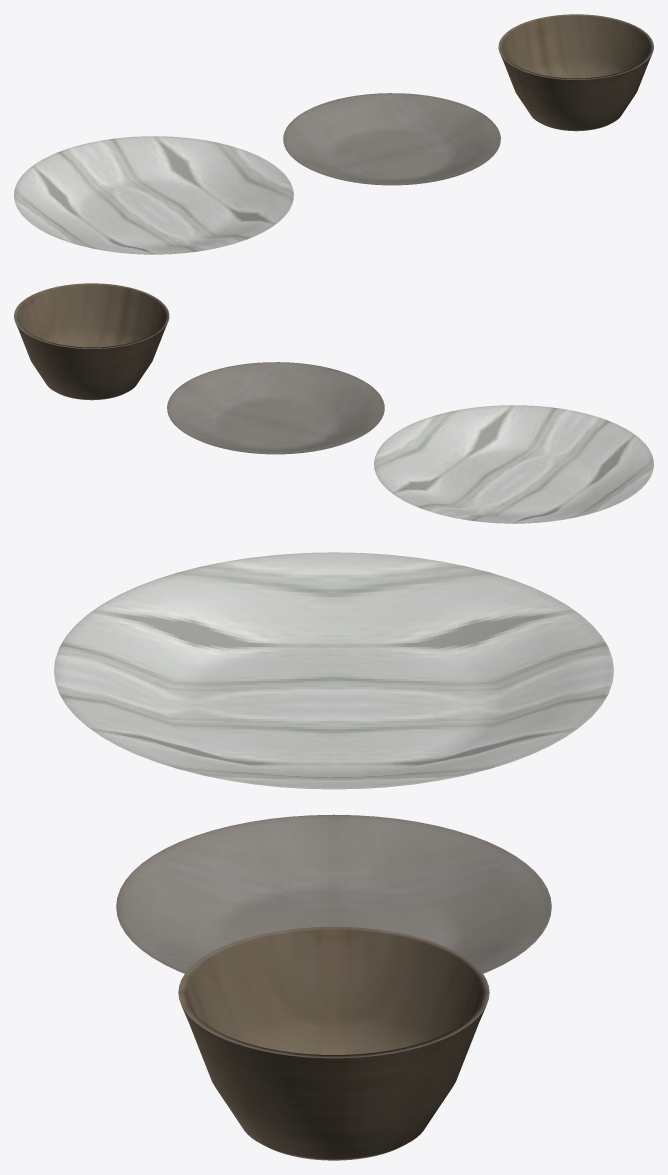
Rendered from MAR-03.glb.
3 views of the same model, one above another, from view 1: azimuth 30°, elevation 25°; view 2: azimuth 150°, elevation 25°; view 3: azimuth 270°, elevation 25° (orthographic). The views are drawn at different scales.
Bounding box in the file's own units: 0.68 × 0.07 × 0.27.
6 materials, 6 textured.
